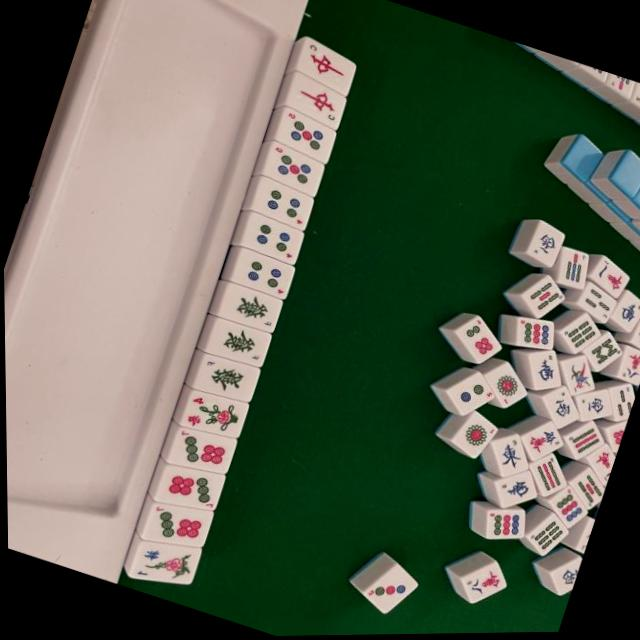bf1: (131, 537, 196, 590)
bs4: (182, 391, 244, 440)
hdg: (215, 321, 269, 365), (199, 357, 254, 400), (227, 291, 278, 330)
hdr: (290, 83, 345, 124), (299, 42, 351, 84)
sd4: (239, 253, 293, 298), (257, 184, 311, 226), (250, 218, 301, 262)
sd5: (263, 143, 322, 191), (279, 112, 332, 154)
sd7: (156, 464, 222, 512), (170, 426, 234, 475), (143, 501, 207, 548)
